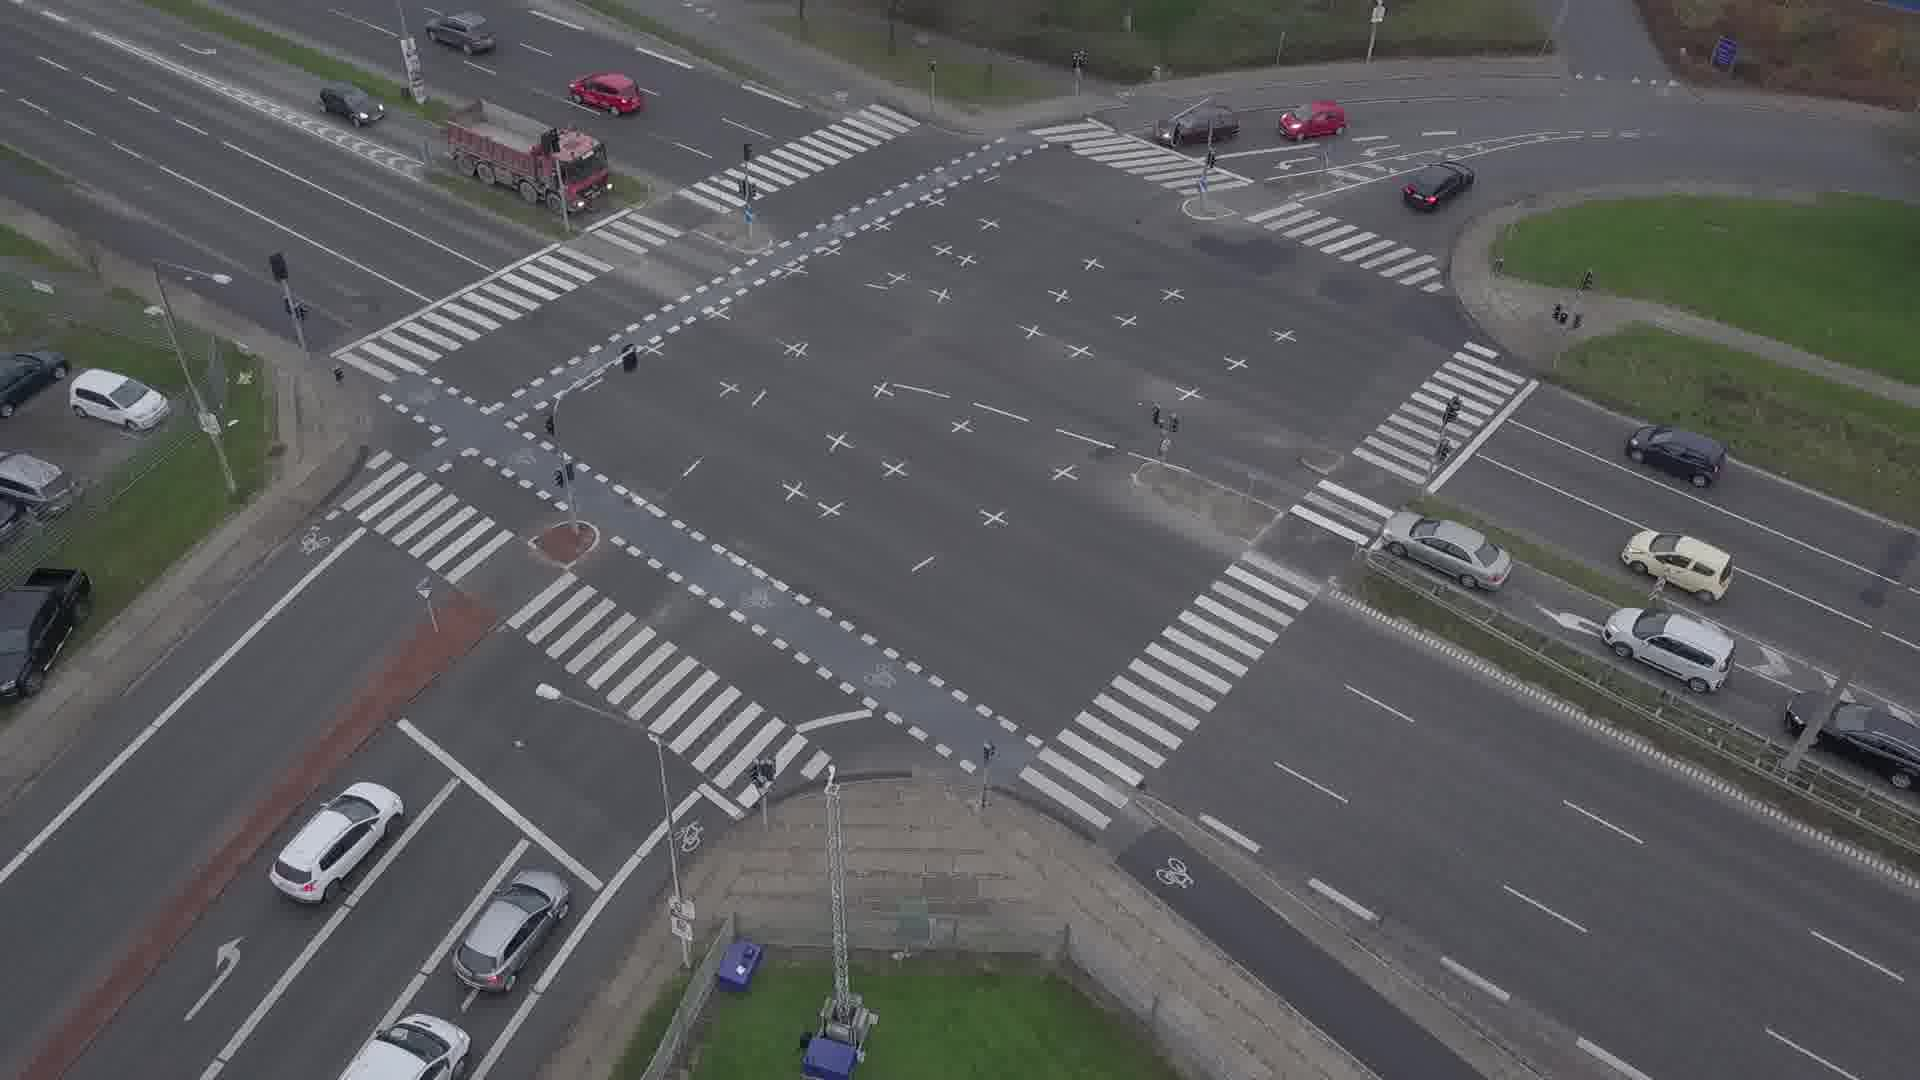car: (269, 782, 404, 903), (452, 870, 570, 993), (1785, 692, 1920, 790), (1602, 607, 1737, 694), (1383, 510, 1513, 589), (1619, 530, 1733, 603), (1627, 427, 1724, 487), (1404, 160, 1474, 210), (316, 80, 382, 128), (567, 73, 641, 115), (1154, 109, 1236, 146), (425, 12, 495, 54), (1276, 102, 1346, 141)
